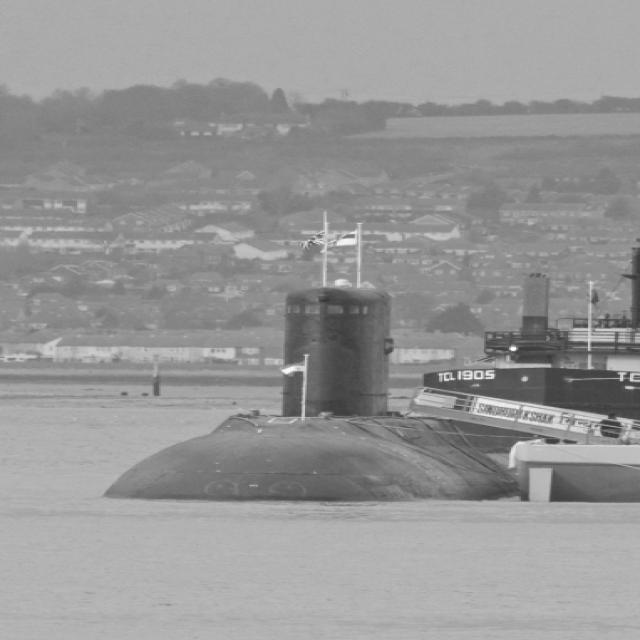submarine: (97, 268, 522, 500)
